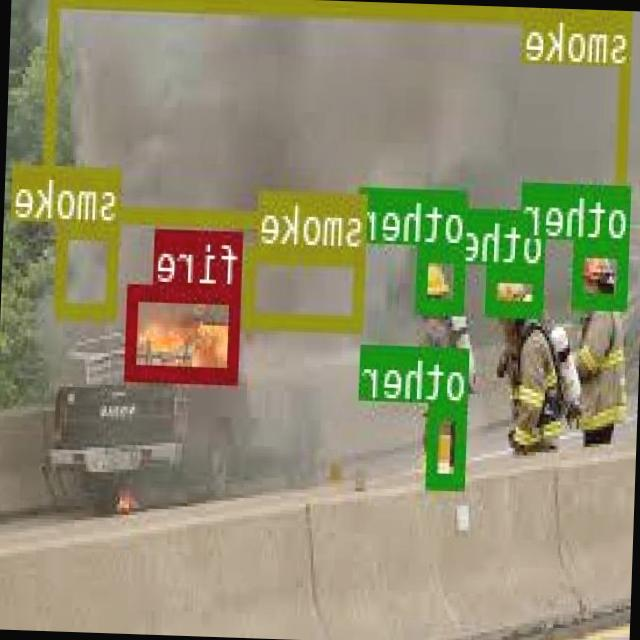fire: (128, 284, 242, 381)
smoke: (43, 0, 632, 234), (246, 243, 366, 327), (56, 219, 122, 315)
